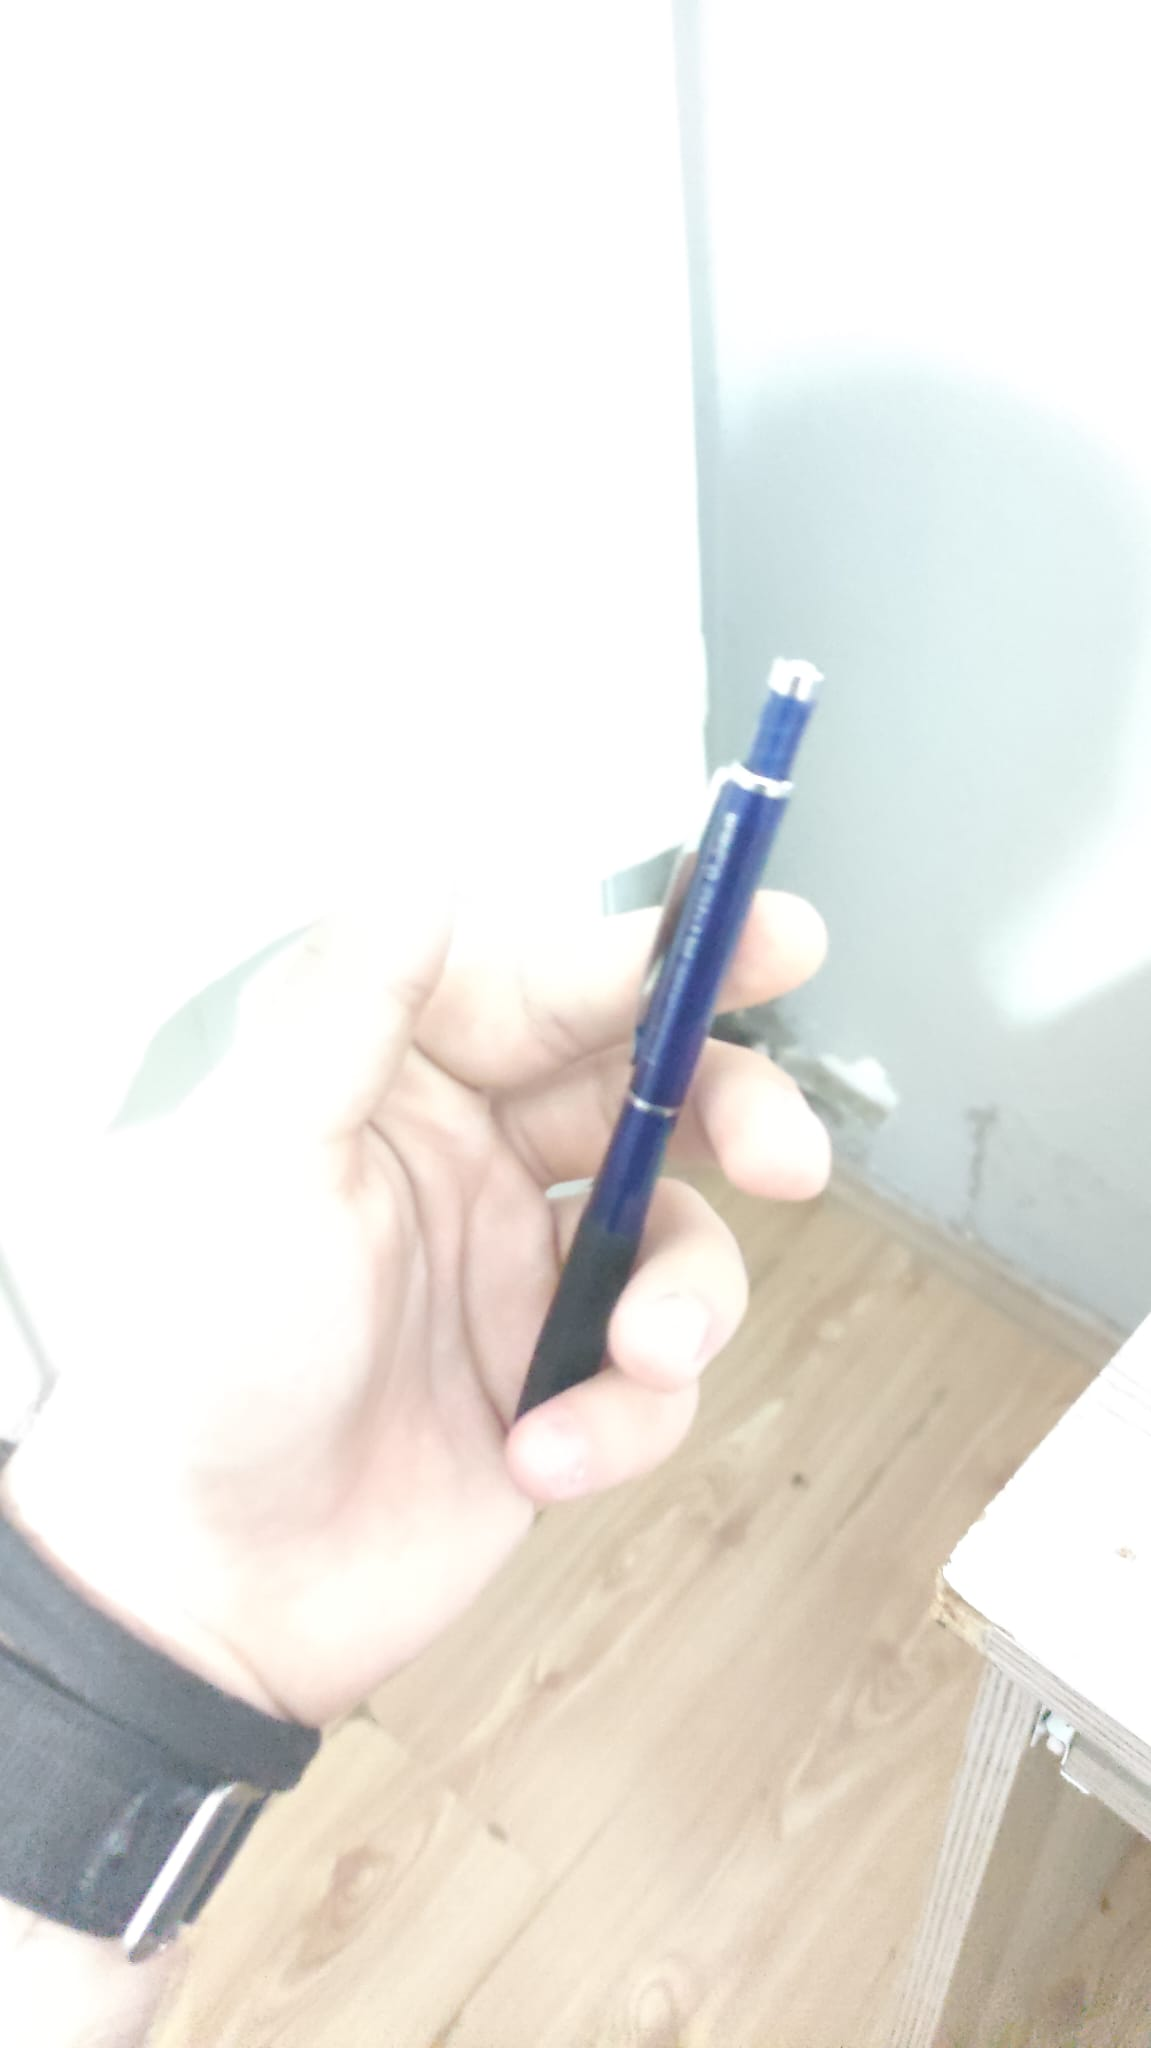kalem: (511, 641, 833, 1428)
